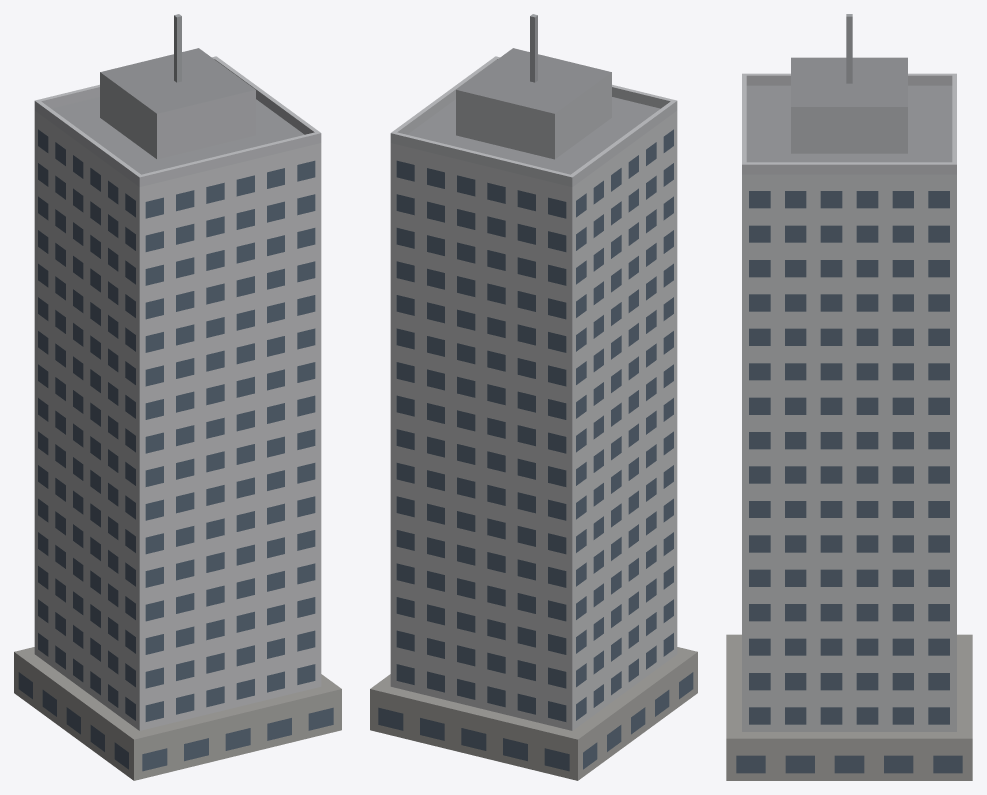
Rendered from highrise_02_monolith_tower.glb.
3 views of the same model, side by side, from view 1: azimuth 30°, elevation 25°; view 2: azimuth 150°, elevation 25°; view 3: azimuth 270°, elevation 25° (orthographic). The views are drawn at different scales.
Parts seen in each view (by area): view 1: highrise_02_monolith_tower; view 2: highrise_02_monolith_tower; view 3: highrise_02_monolith_tower.
Boxes of the visible parts, x1,y1,x2,y2 form: highrise_02_monolith_tower: (14,14,341,780); highrise_02_monolith_tower: (370,14,697,780); highrise_02_monolith_tower: (726,14,972,780).
Bounding box in the file's own units: 20.03 × 64 × 20.03.
